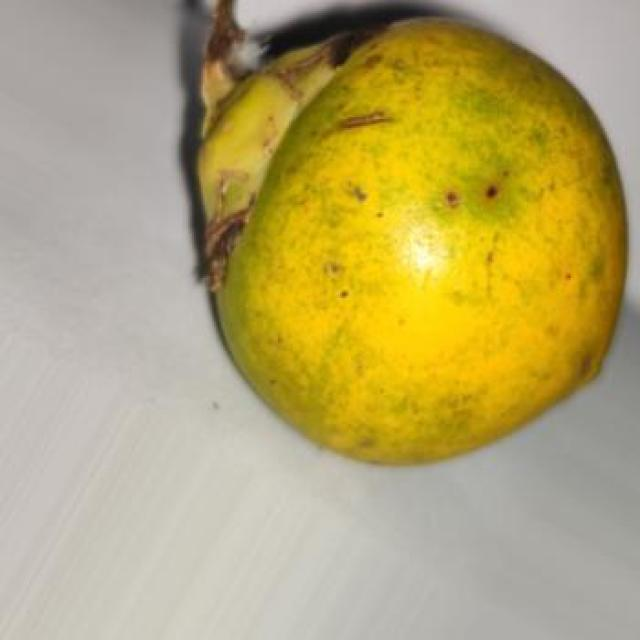damaged: (197, 0, 624, 461)
